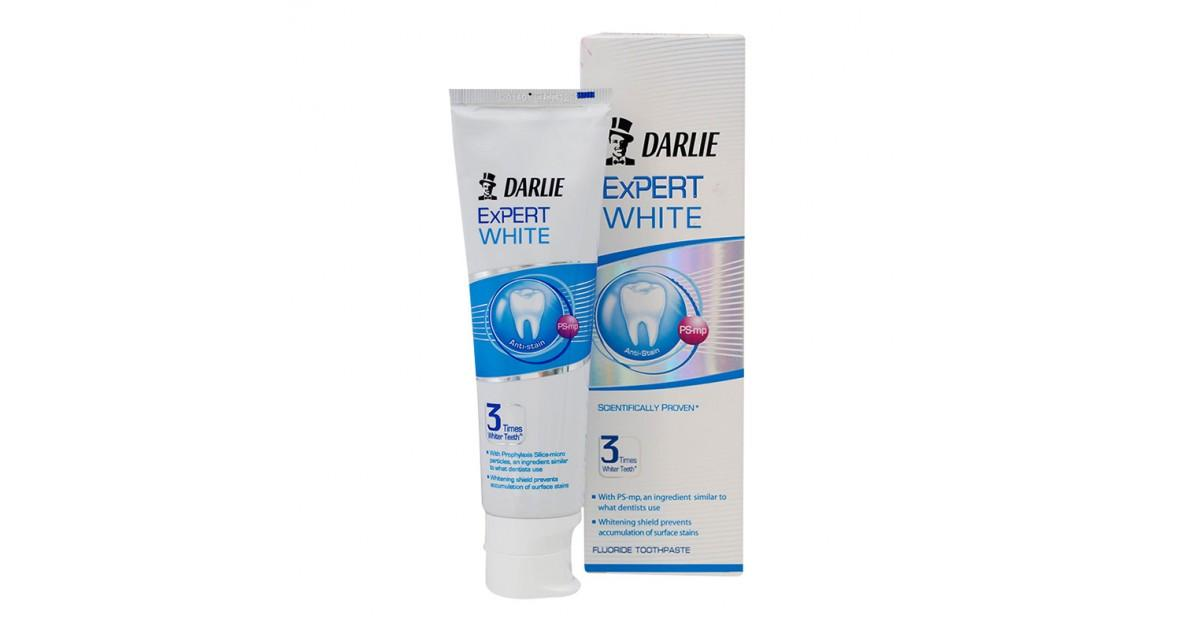toothpaste: (439, 76, 599, 596)
